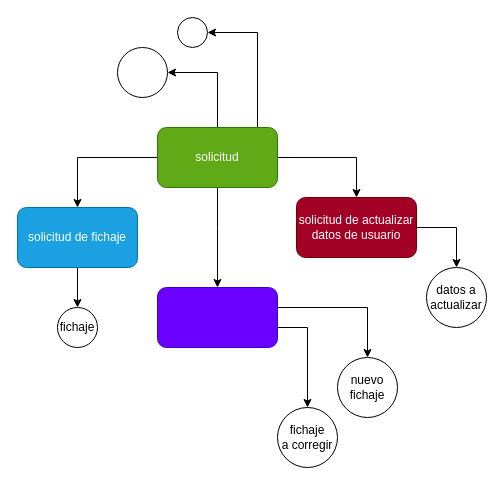
The diagram is 504 pixels wide and 485 high, and some of its shapes have lost their labels. Each missing label, with the box of its shape:
id: (176, 16, 208, 48)
id_user: (116, 46, 168, 98)
solicitud corrección: (156, 286, 278, 348)
